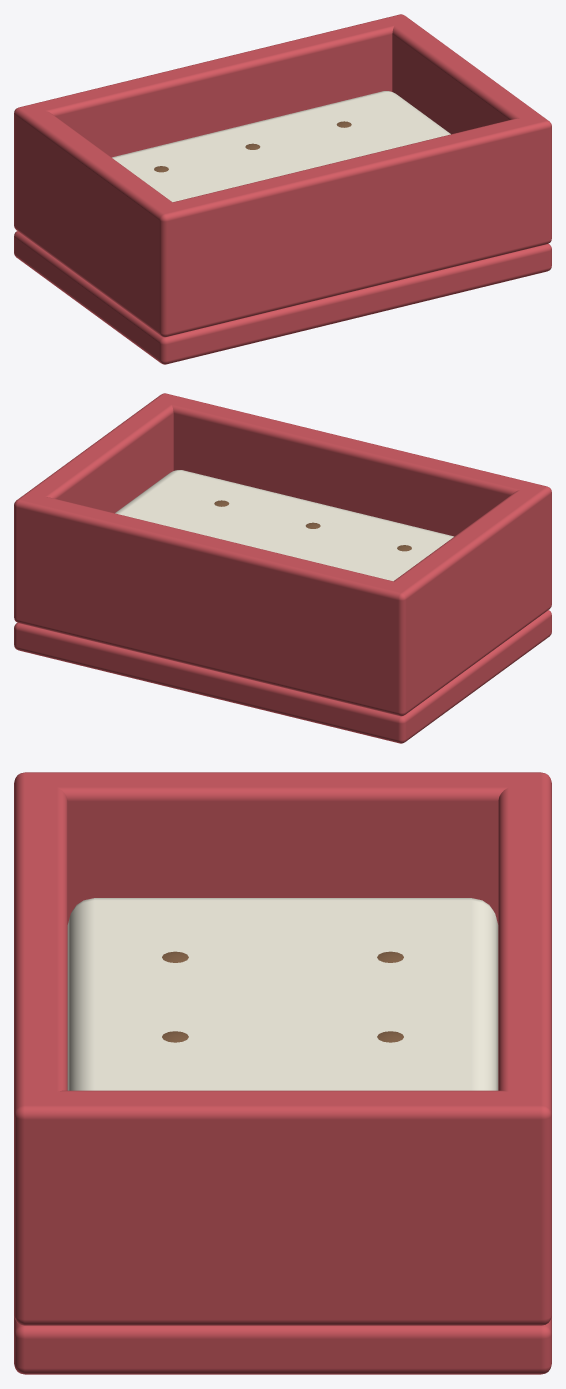
File: chocolate-making-and-confectionery-fitted-bonbon-box-de68ffa0__39178.glb
The picture shows the model from 3 angles, top to bottom: view 1: azimuth 30°, elevation 25°; view 2: azimuth 150°, elevation 25°; view 3: azimuth 270°, elevation 25°; orthographic projection. The views are drawn at different scales.
Parts seen in each view (by area): view 1: fitted-bonbon-box; view 2: fitted-bonbon-box; view 3: fitted-bonbon-box.
Boxes of the visible parts, x1=… form: fitted-bonbon-box: x1=14, y1=14, x2=551, y2=364; fitted-bonbon-box: x1=14, y1=393, x2=551, y2=743; fitted-bonbon-box: x1=14, y1=772, x2=551, y2=1374.
Size of the model in its own units: 0.3 by 0.11 by 0.2.
